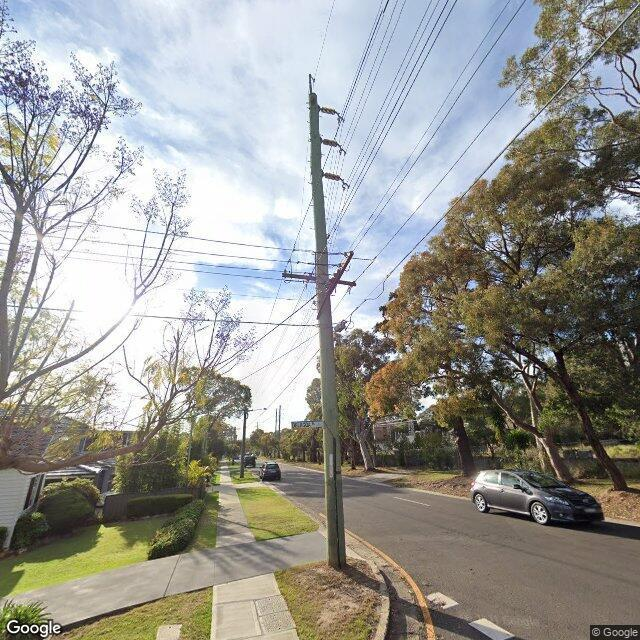HV-transmission: (309, 74, 348, 190)
crossarm: (326, 251, 354, 295), (282, 272, 356, 287)
streetlight: (246, 408, 267, 412)
timber-pole: (309, 93, 346, 570), (241, 409, 247, 478)
